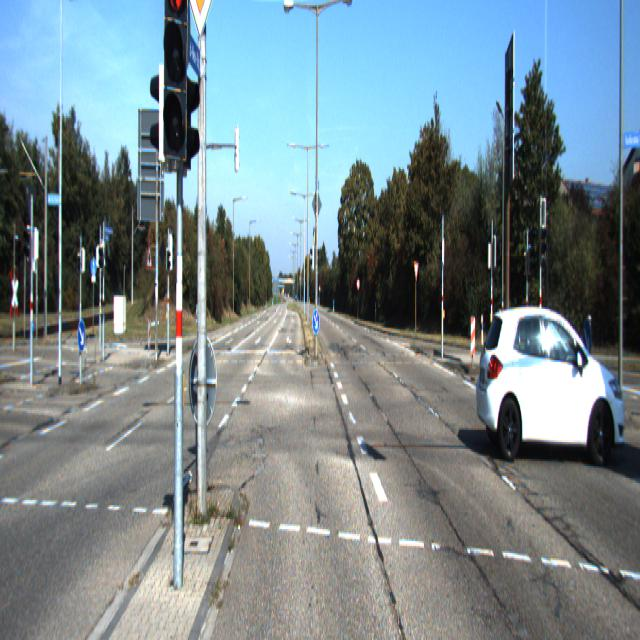Car: (474, 298, 630, 468)
